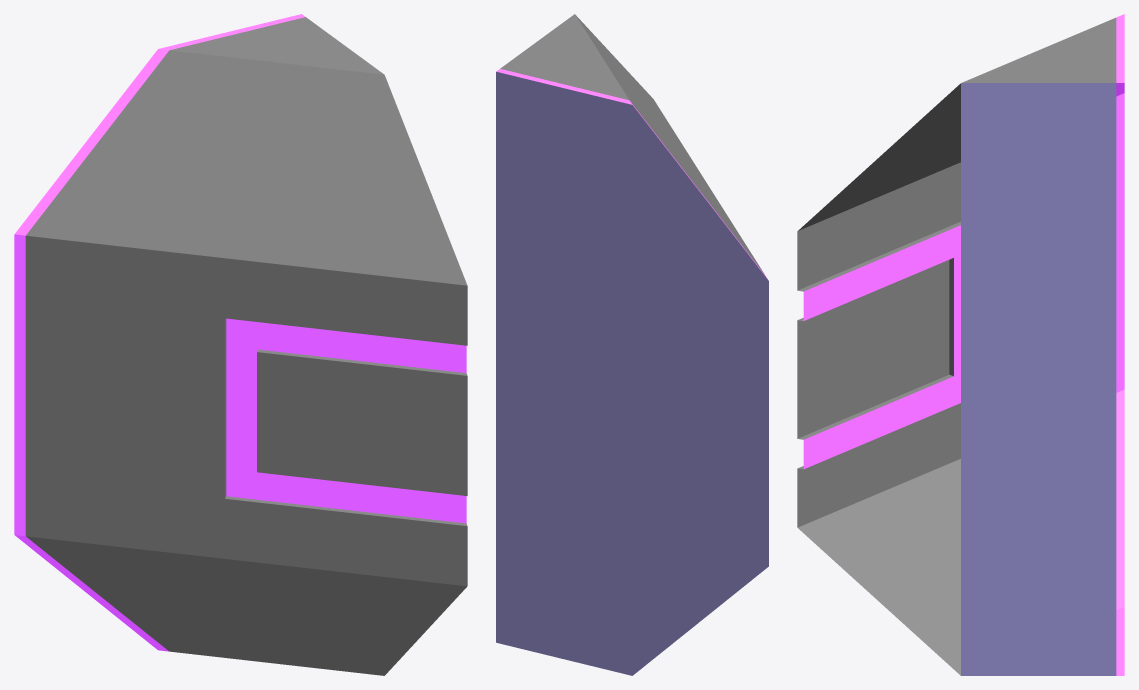
The model's file is PlatformEndShort.FBX.
3 views of the same model, side by side, from view 1: azimuth 30°, elevation 25°; view 2: azimuth 150°, elevation 25°; view 3: azimuth 270°, elevation 25° (orthographic). The views are drawn at different scales.
Visible parts, largest first — view 1: PlatformEndShort; view 2: PlatformEndShort; view 3: PlatformEndShort.
Part boxes in pixels (bbox=[...]): PlatformEndShort: bbox=[14, 14, 467, 675]; PlatformEndShort: bbox=[496, 14, 768, 675]; PlatformEndShort: bbox=[797, 14, 1124, 675].
Size of the model in its own units: 50.37 by 50 by 100.
